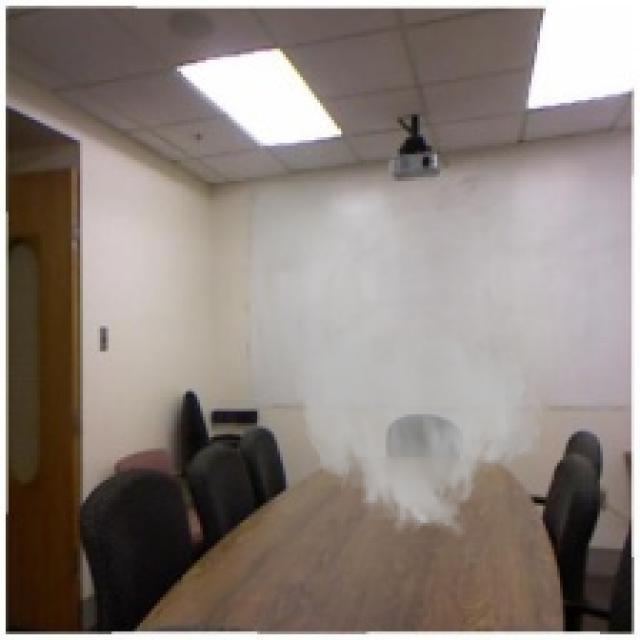Smoke: (291, 320, 546, 540)
